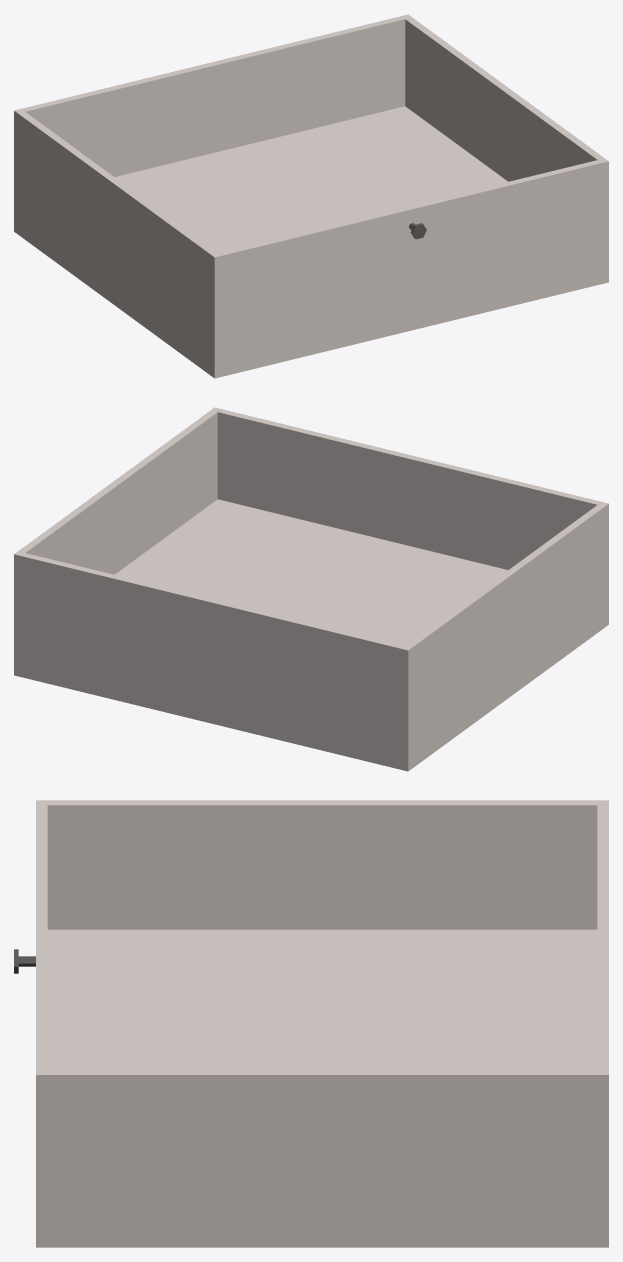
Rendered from Cupboard_19_02.fbx.
The picture shows the model from 3 angles, top to bottom: view 1: azimuth 30°, elevation 25°; view 2: azimuth 150°, elevation 25°; view 3: azimuth 270°, elevation 25°; orthographic projection. The views are drawn at different scales.
Parts seen in each view (by area): view 1: Cupboard_19_02; view 2: Cupboard_19_02; view 3: Cupboard_19_02.
Boxes of the visible parts, x1,y1,x2,y2 form: Cupboard_19_02: (14, 14, 608, 378); Cupboard_19_02: (14, 407, 608, 771); Cupboard_19_02: (14, 800, 608, 1247).
Size of the model in its own units: 47.67 by 13.99 by 43.66.
